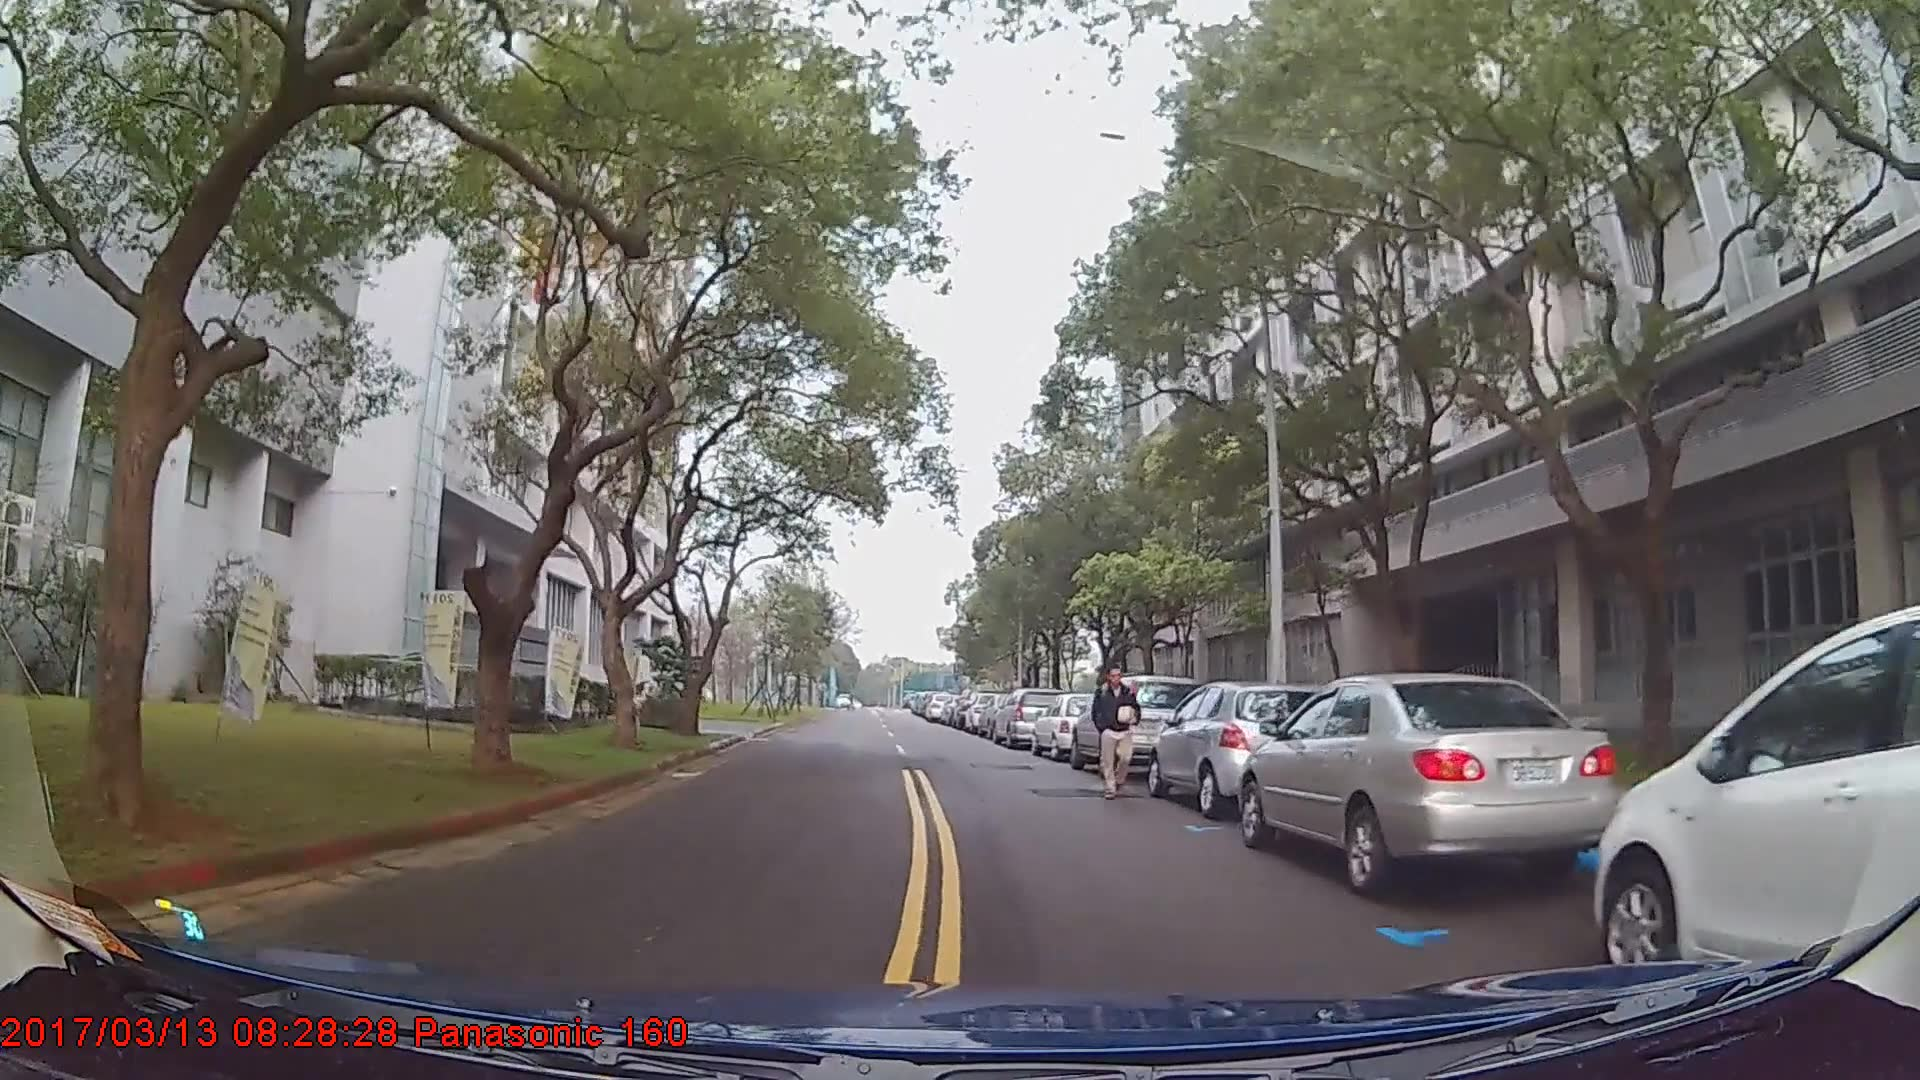pedestrian: (1094, 670, 1145, 800)
vehicle: (1594, 602, 1920, 992), (1239, 668, 1623, 901), (1147, 678, 1328, 818), (1070, 672, 1207, 778), (1029, 690, 1106, 759), (989, 686, 1066, 747)
